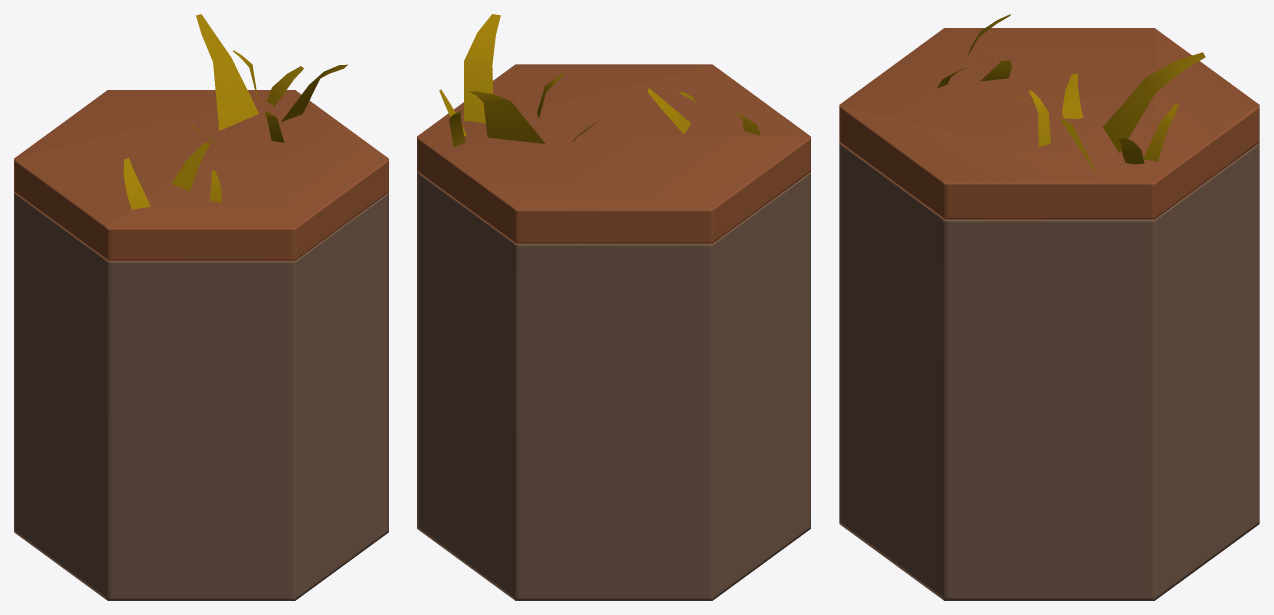
File: firegrass_hex.fbx
3 views of the same model, side by side, from view 1: azimuth 30°, elevation 25°; view 2: azimuth 150°, elevation 25°; view 3: azimuth 270°, elevation 25° (orthographic). The views are drawn at different scales.
Visible parts, largest first — view 1: Cylinder, Cylinder.001, Plane; view 2: Cylinder, Cylinder.001, Plane; view 3: Cylinder, Cylinder.001, Plane.
Part boxes in pixels (left/top/right/bottom): Cylinder: left=14, top=193, right=388, bottom=600; Cylinder.001: left=14, top=90, right=388, bottom=261; Plane: left=123, top=14, right=347, bottom=209; Cylinder: left=417, top=172, right=810, bottom=600; Cylinder.001: left=417, top=64, right=810, bottom=243; Plane: left=439, top=14, right=760, bottom=146; Cylinder: left=839, top=143, right=1259, bottom=600; Cylinder.001: left=839, top=28, right=1259, bottom=219; Plane: left=937, top=14, right=1205, bottom=171.
Bounding box in the file's own units: 173 × 266 × 200.
